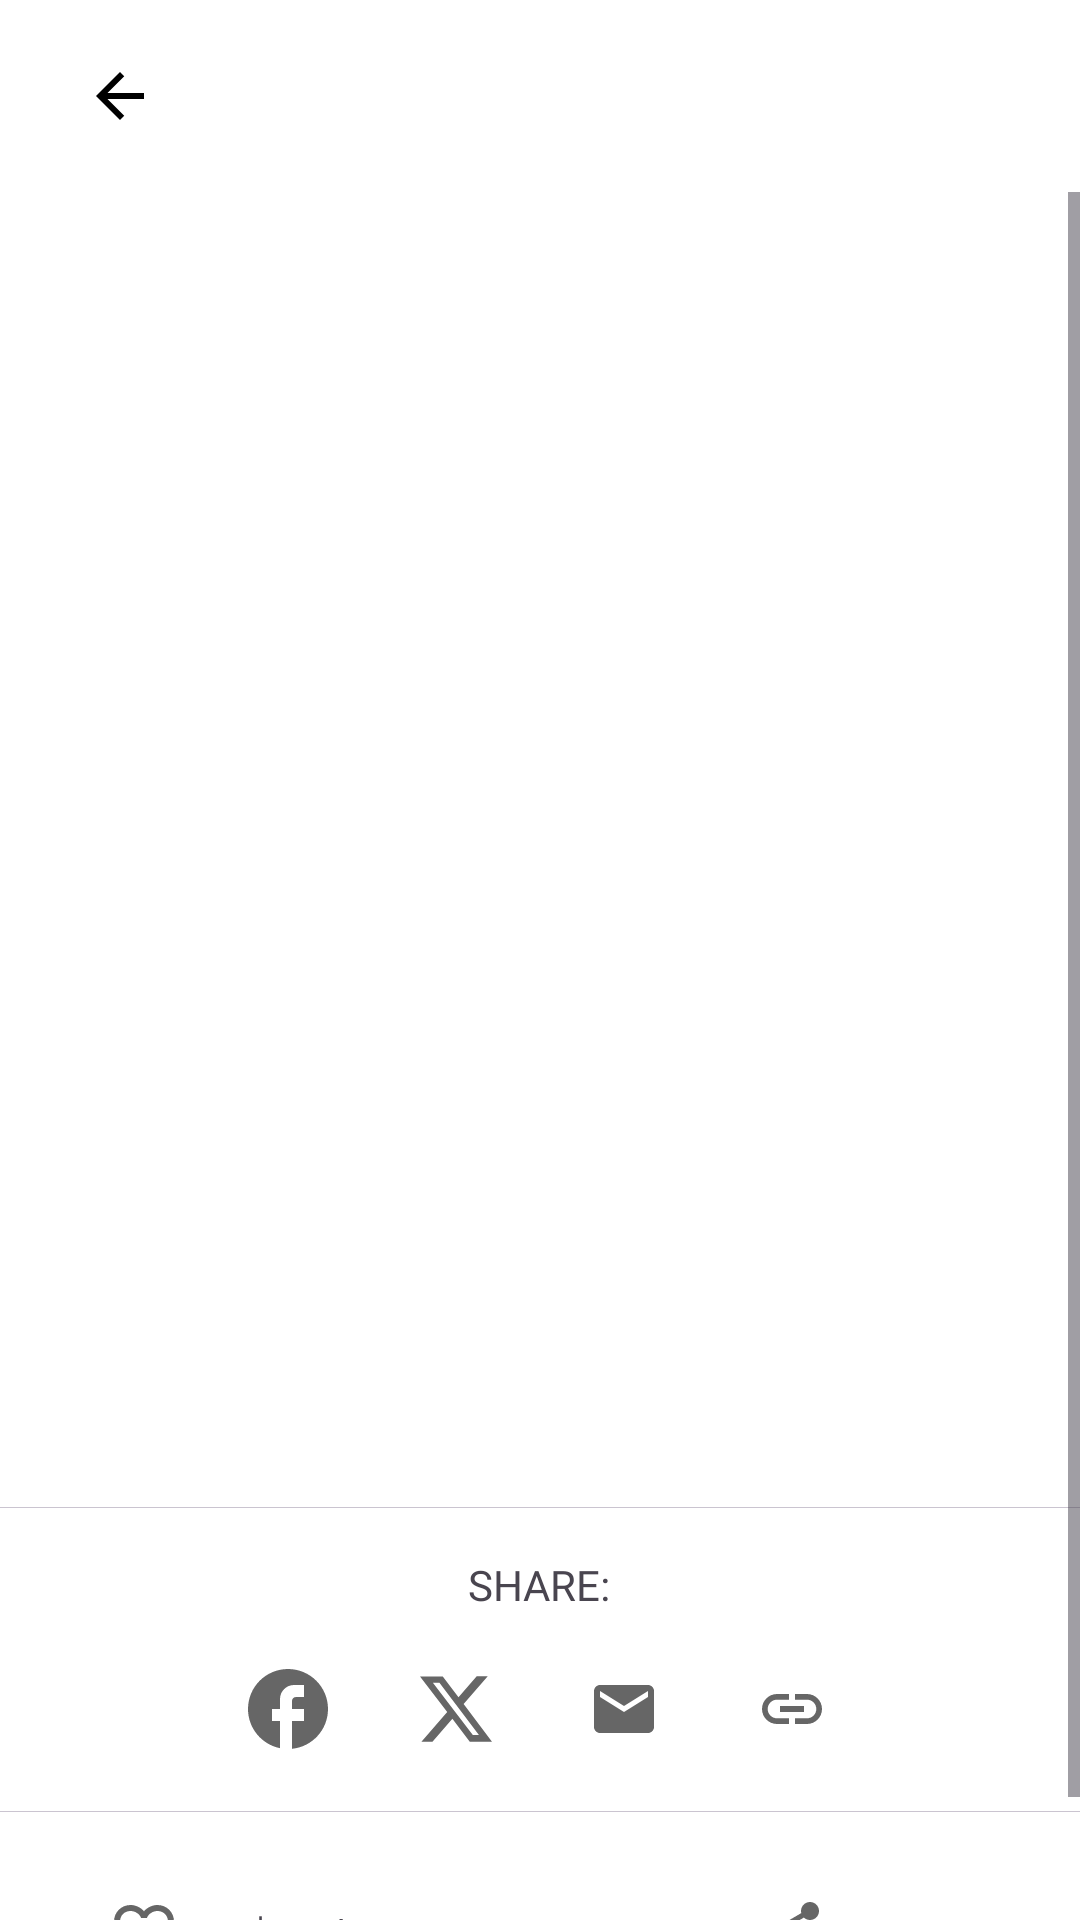

Icon bounding boxes for this 1080*1920 phone screenshot, format BBox(x1, y1, x2, y2):
Bagikan ke Email: BBox(594, 1685, 654, 1733)
Kembali ke halaman sebelumnya: BBox(96, 72, 144, 120)
Salin tautan berita ini: BBox(762, 1694, 822, 1724)
